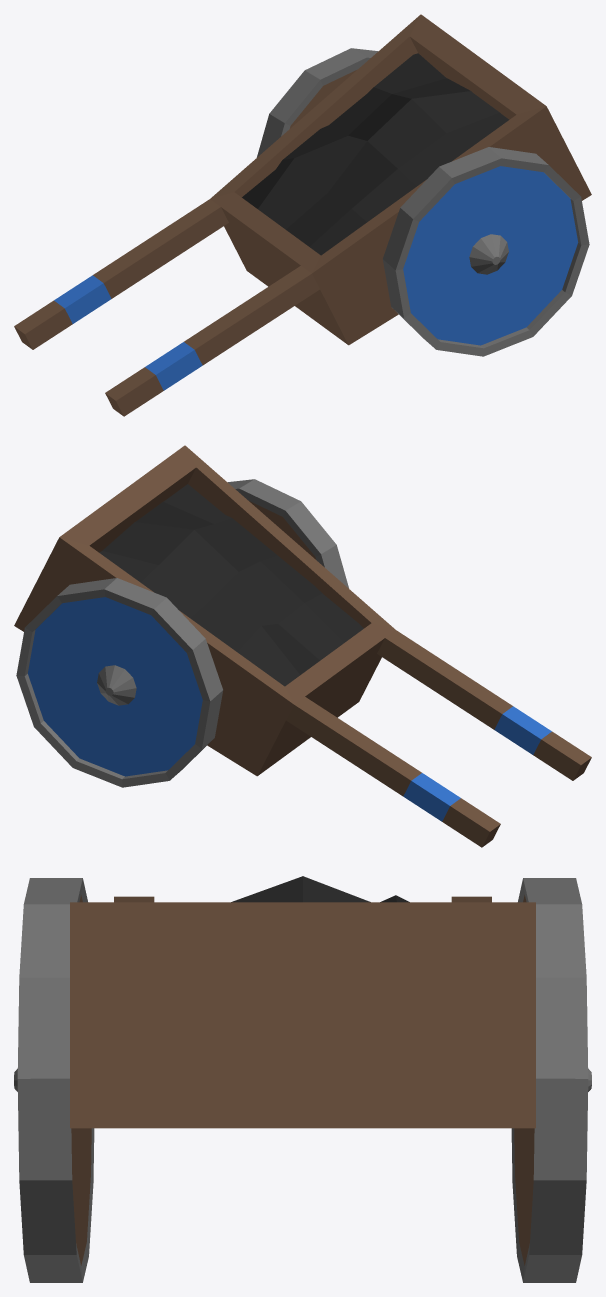
Rendered from Cart.fbx.
The picture shows the model from 3 angles, top to bottom: view 1: azimuth 30°, elevation 25°; view 2: azimuth 150°, elevation 25°; view 3: azimuth 270°, elevation 25°; orthographic projection. The views are drawn at different scales.
Visible parts, largest first — view 1: Karren, Team Color Obj; view 2: Karren, Team Color Obj; view 3: Karren.
Part boxes in pixels (<box>): Karren: <box>14,14,591,416</box>; Team Color Obj: <box>54,166,578,390</box>; Karren: <box>14,445,591,847</box>; Team Color Obj: <box>27,597,551,821</box>; Karren: <box>14,876,591,1282</box>.
Size of the model in its own units: 79.41 by 36.98 by 46.18.
